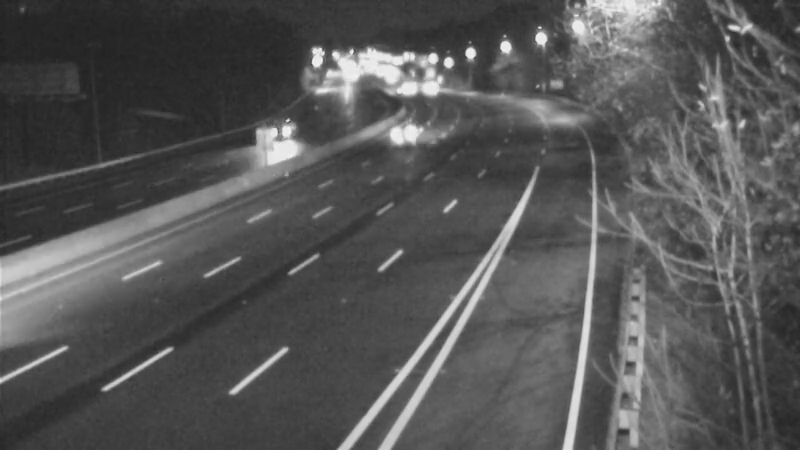vehicle: (390, 101, 440, 151), (259, 108, 309, 158)
